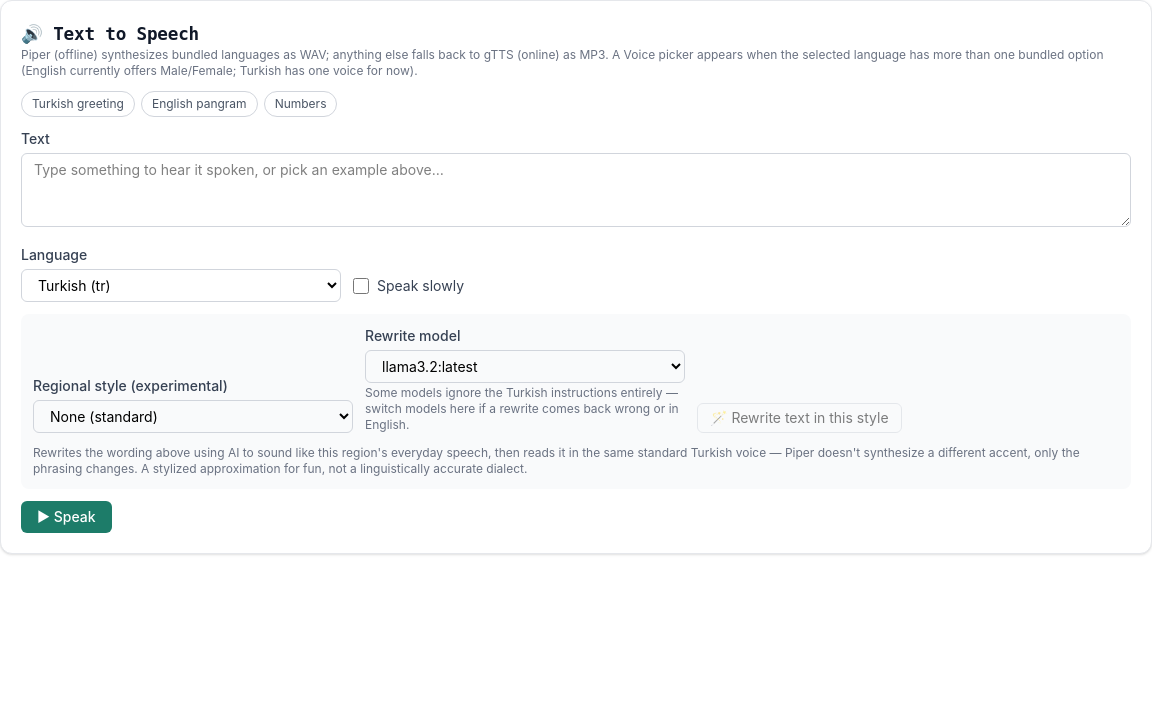
Scenario: TextToSpeechCard rewrite › restores the original text via Undo
In the text box labelled "Text": (576, 190) [21,153,1131,227], type "Merhaba, nasılsın?"
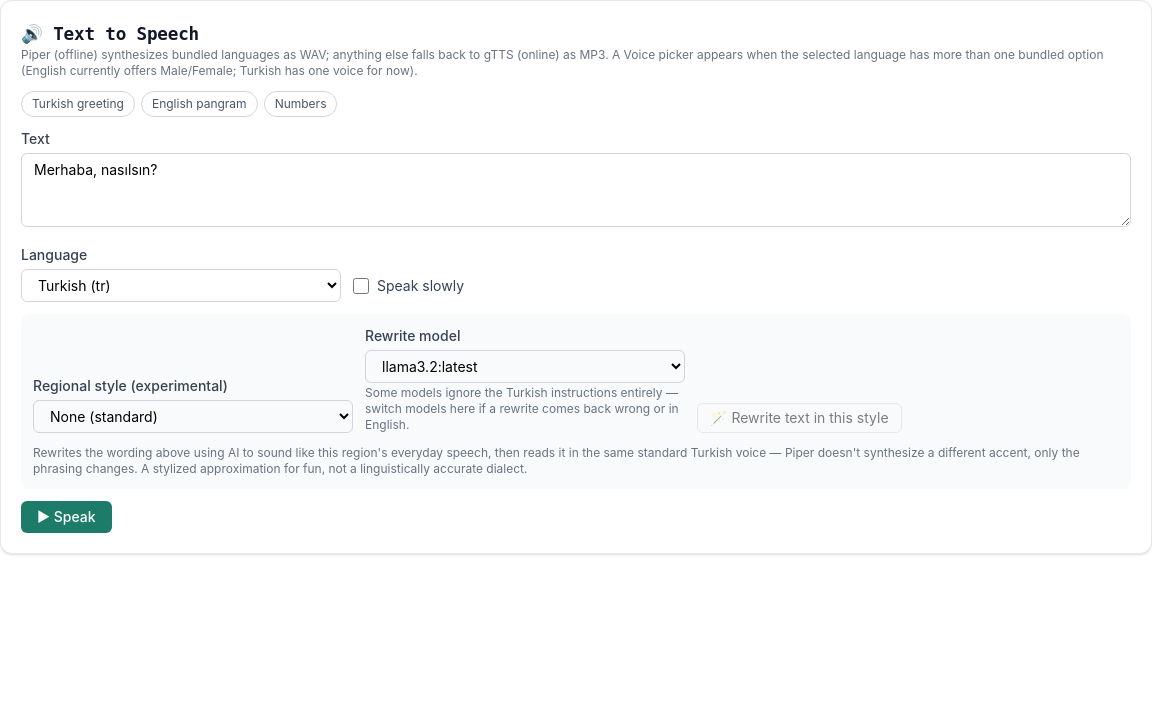
Select "Karadeniz" in the dropdown labelled "Regional style (experimental)": (193, 417) [33,400,353,433]
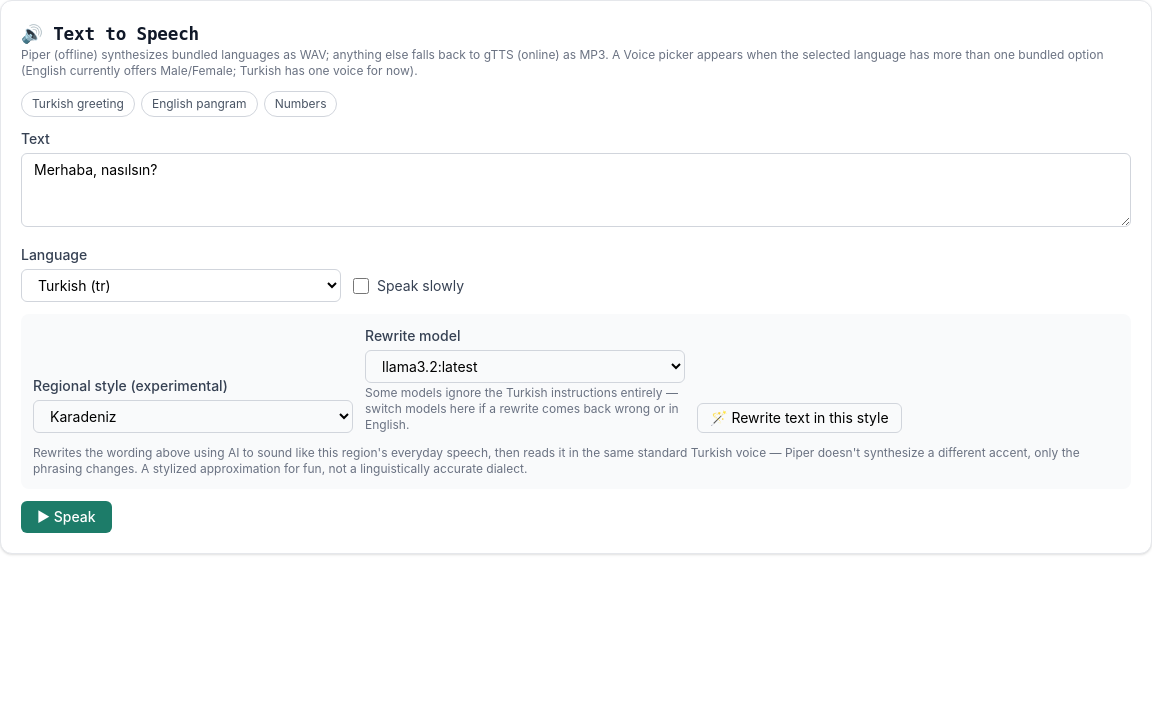
Click the button "🪄 Rewrite text in this style": click(799, 418) [697,403,902,433]
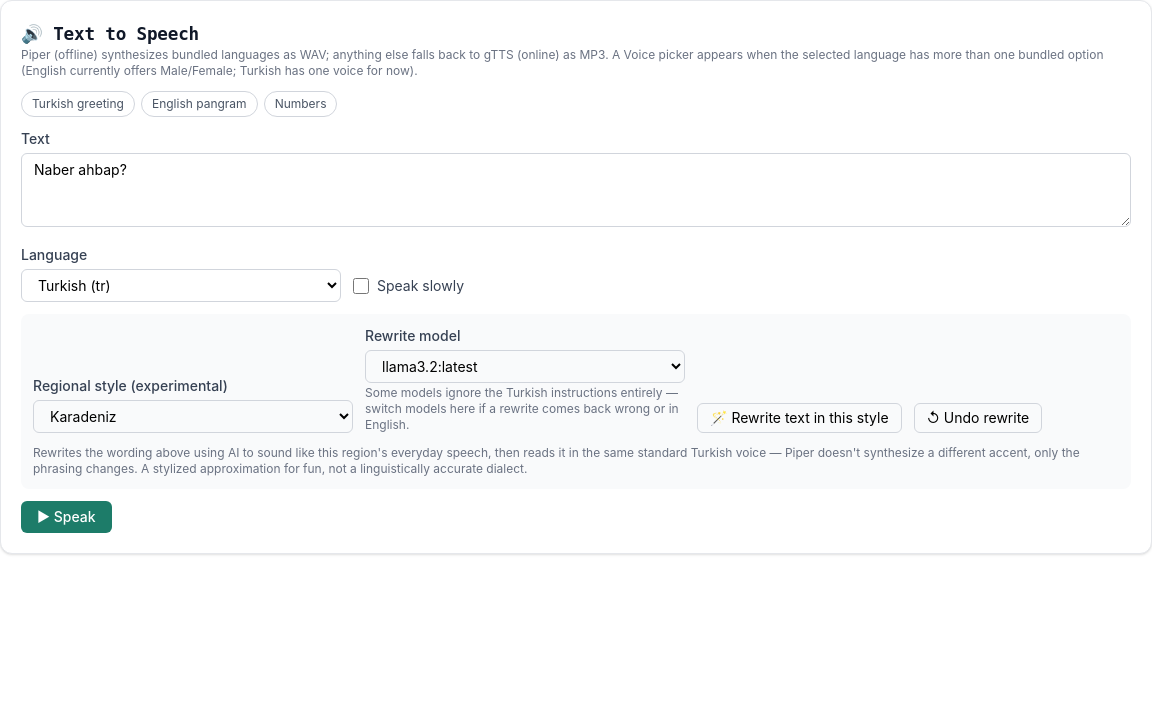
Expected: the text box labelled "Text" holds "Naber ahbap?", [21,153,1131,227]
Click the button "↺ Undo rewrite": click(978, 418) [914,403,1042,433]
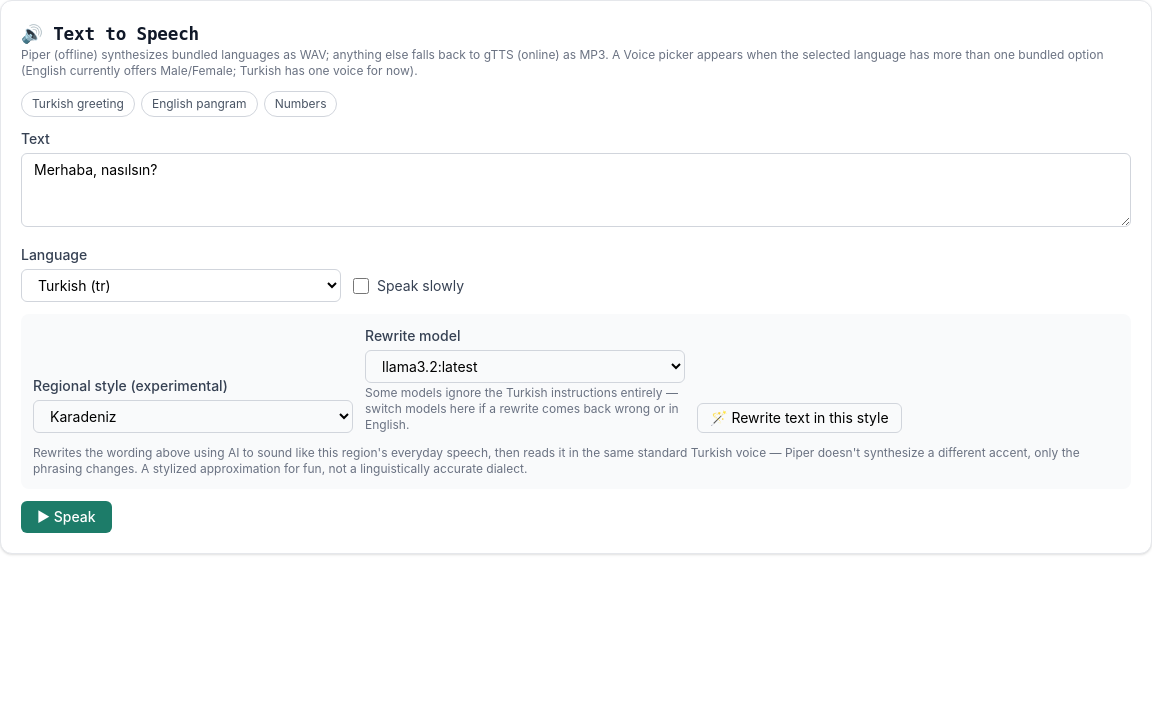
Expected: the button "↺ Undo rewrite" is gone
